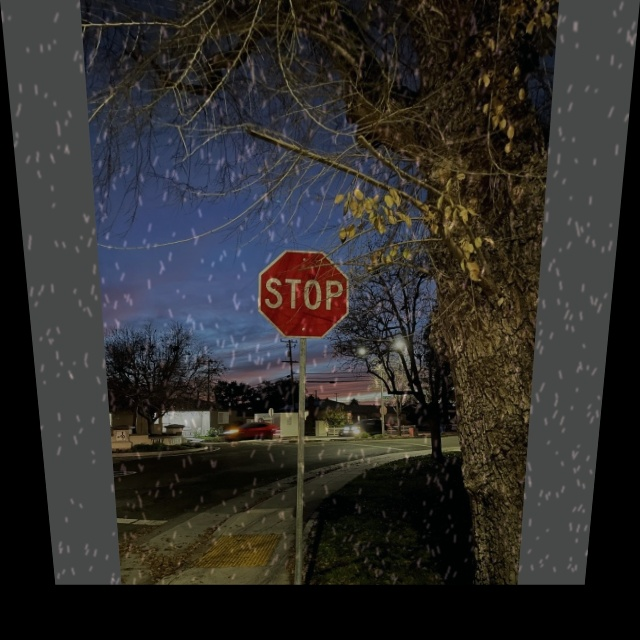Stop: (257, 251, 350, 338)
